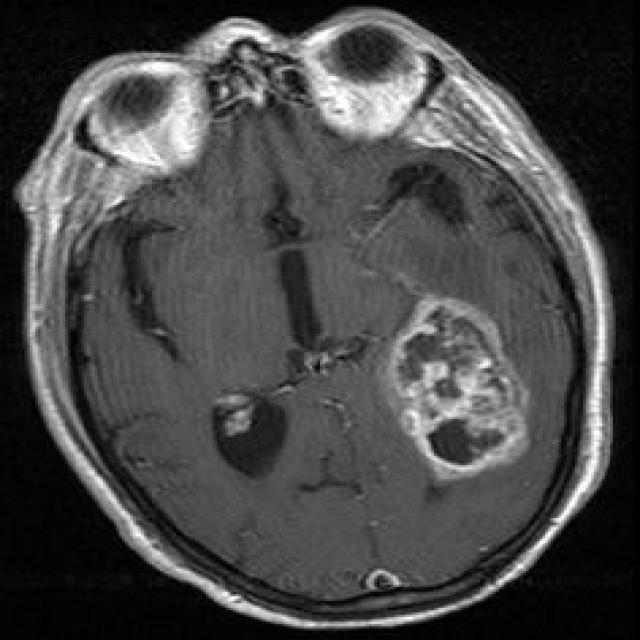Tumor-Cell: (374, 292, 553, 481), (73, 96, 198, 170), (304, 49, 413, 121)
